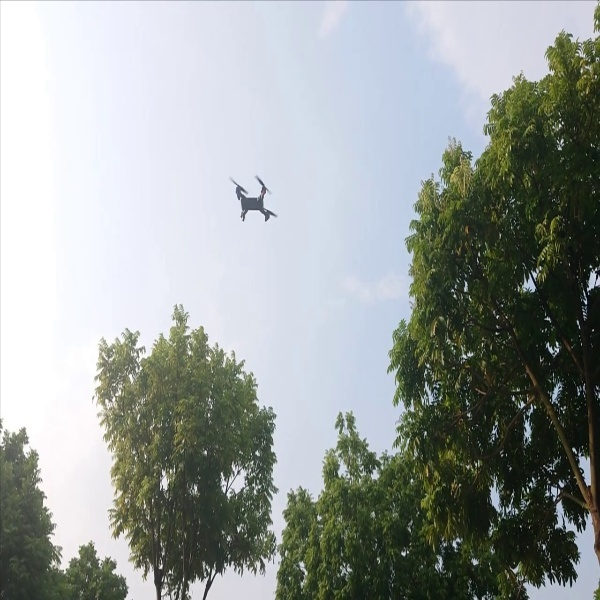drone: (226, 170, 281, 225)
